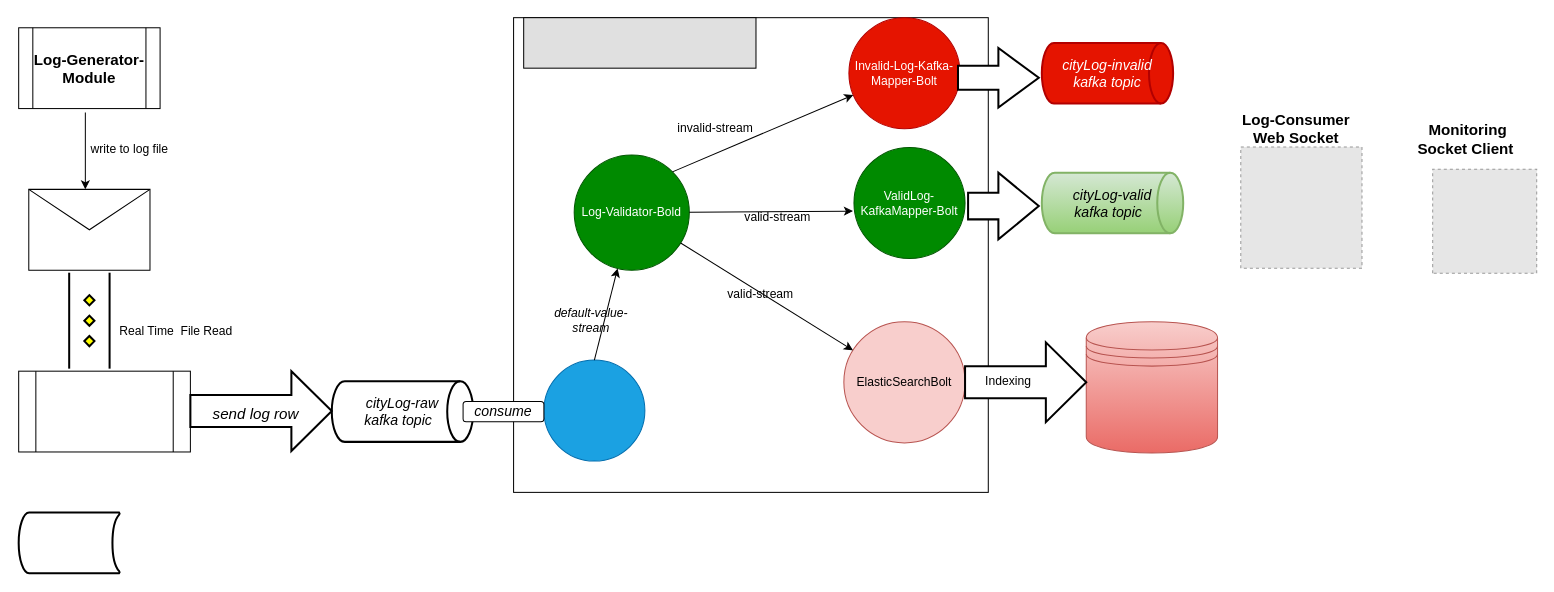
Image size: 1554x592. Some labels were removed from this diagram. Grey dashed boxes stand in for pictures. The centre of each missing label's shape, as x and y in pixels:
city.log: the point at 89,229
ElasticSearch Node: the point at 1151,387
KafkaSpout: the point at 594,410
Log Flow Stom Topology-Module: the point at 639,42
Log-Listener-Producer-Module: the point at 104,411
